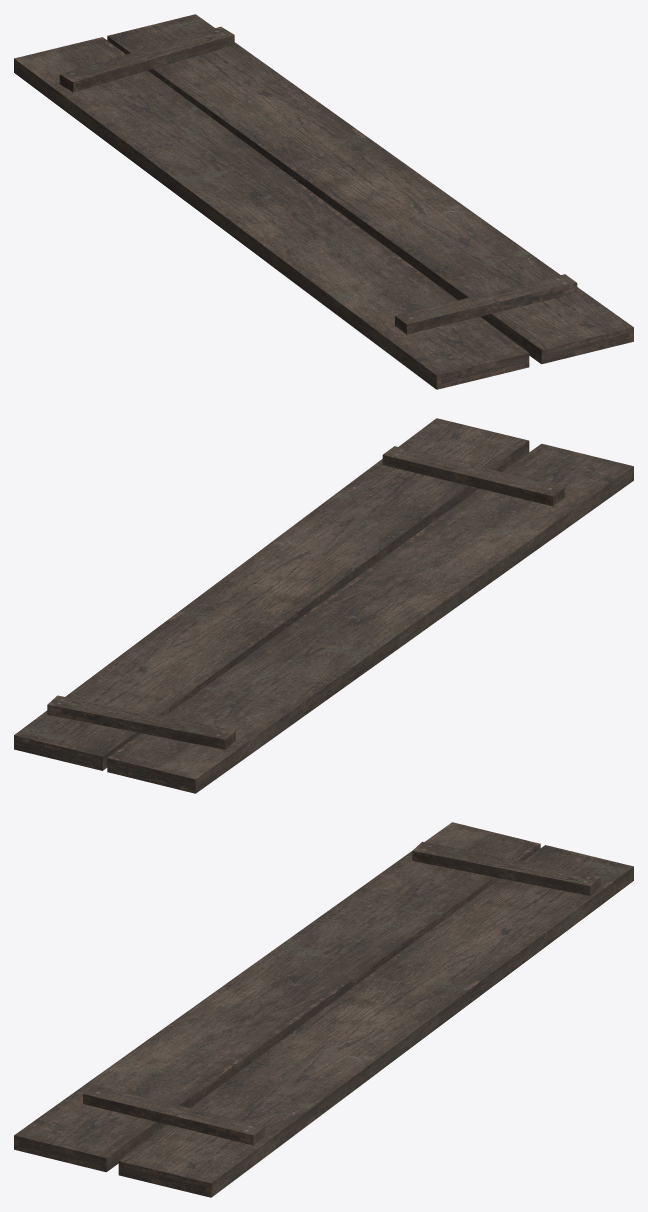
The model's file is SM_wood_boards_01.fbx.
3 renders of one model, top to bottom at view 1: azimuth 30°, elevation 25°; view 2: azimuth 150°, elevation 25°; view 3: azimuth 330°, elevation 25°, orthographic.
Parts seen in each view (by area): view 1: SM_wood_boards_01_LOD0; view 2: SM_wood_boards_01_LOD0; view 3: SM_wood_boards_01_LOD0.
Part boxes in pixels (bbox=[...]): SM_wood_boards_01_LOD0: bbox=[14, 14, 633, 389]; SM_wood_boards_01_LOD0: bbox=[14, 418, 633, 793]; SM_wood_boards_01_LOD0: bbox=[14, 822, 633, 1197].
Bounding box in the file's own units: 58.37 × 221 × 6.89.
1 material, 1 textured.
